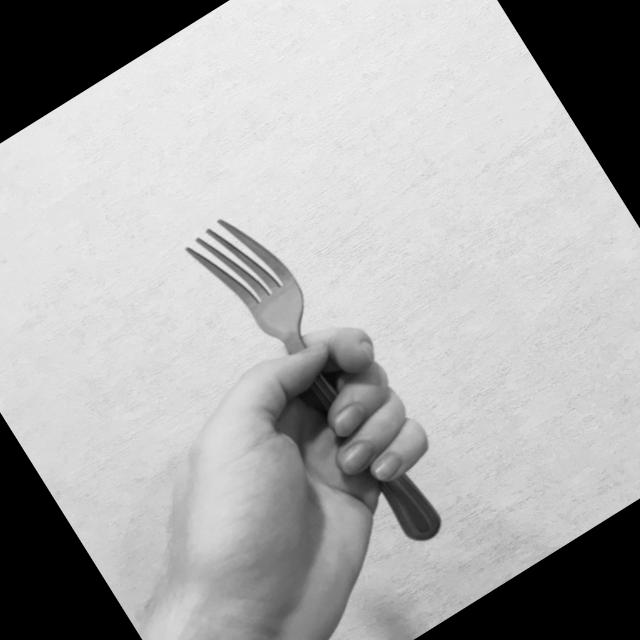fork: (173, 195, 456, 572)
